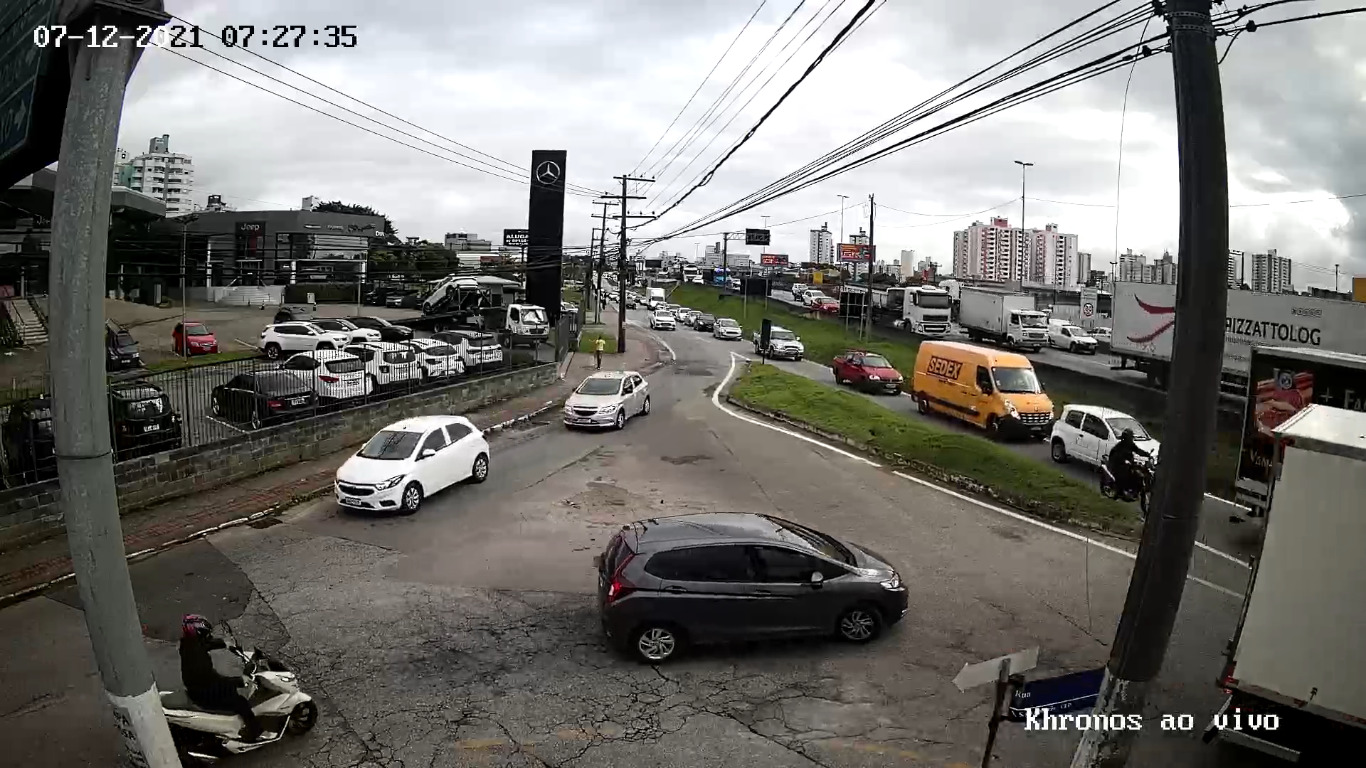car: (599, 514, 906, 662), (334, 413, 490, 513), (562, 371, 651, 430)
